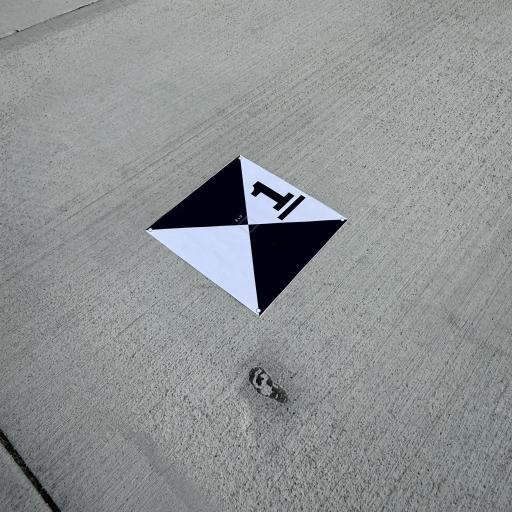target1: (137, 152, 357, 320)
